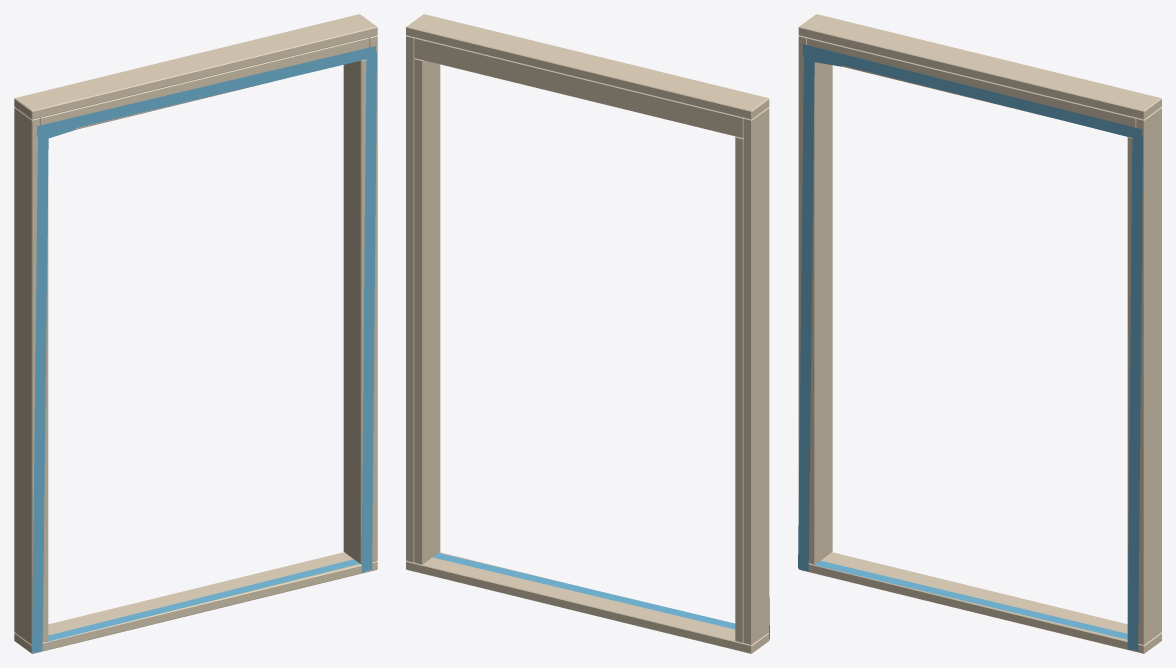
The model's file is Kit_DoorwayStuds140.fbx.
The picture shows the model from 3 angles, left to right: view 1: azimuth 30°, elevation 25°; view 2: azimuth 150°, elevation 25°; view 3: azimuth 330°, elevation 25°; orthographic projection.
Visible parts, largest first — view 1: Kit_DoorwayStuds140_LOD0; view 2: Kit_DoorwayStuds140_LOD0; view 3: Kit_DoorwayStuds140_LOD0.
Part boxes in pixels (x1,y1,x2,y2): Kit_DoorwayStuds140_LOD0: (14, 14, 377, 653); Kit_DoorwayStuds140_LOD0: (406, 14, 769, 653); Kit_DoorwayStuds140_LOD0: (798, 14, 1161, 653).
Size of what is drawn, in the model's own units: 1.55 by 2.33 by 0.1425.
